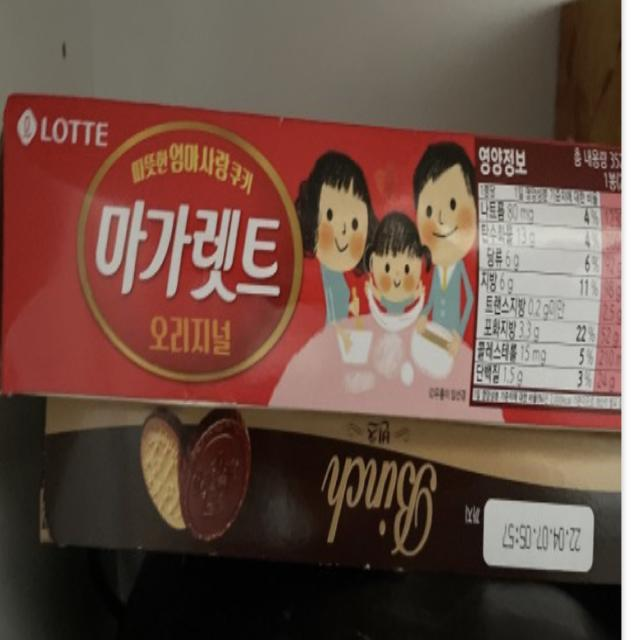biodegradable: (3, 45, 616, 435), (26, 376, 622, 608)
